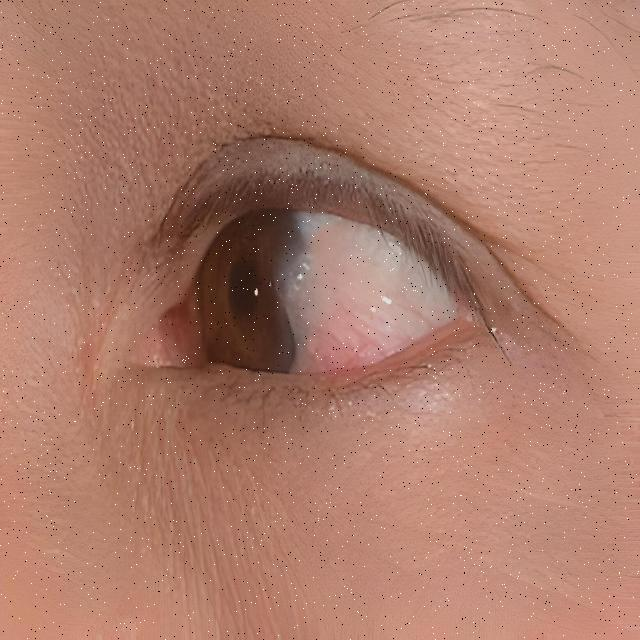Pterygium: (296, 262, 404, 358)
